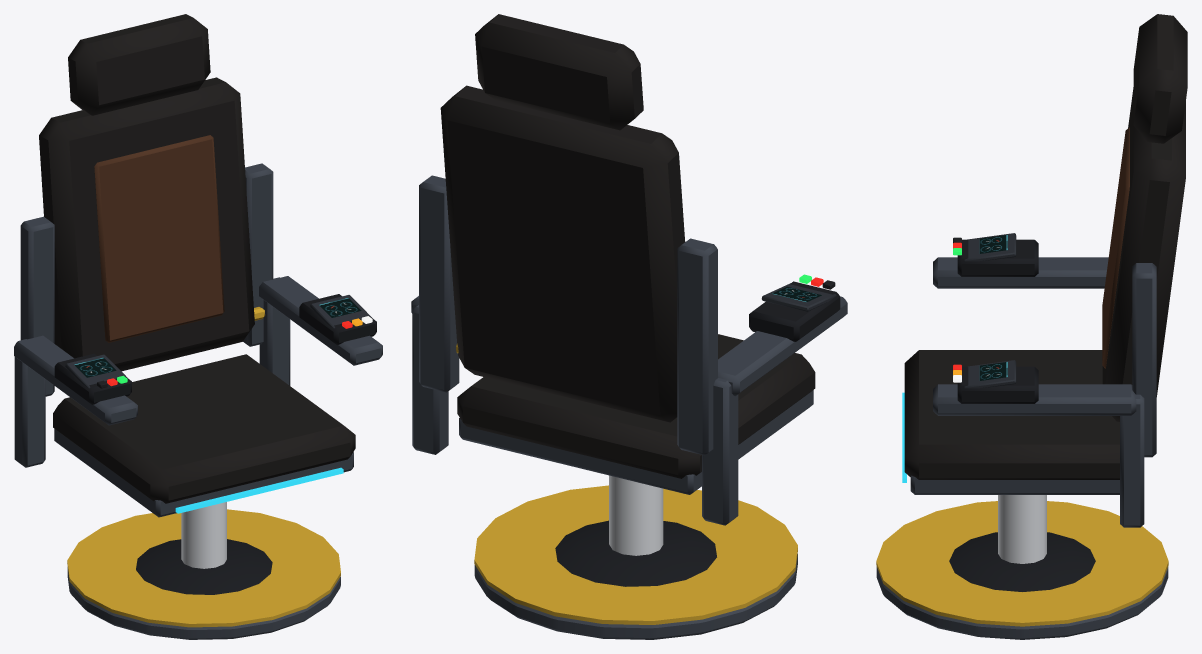
File: seat_captain_command_chair.glb
The picture shows the model from 3 angles, left to right: view 1: azimuth 30°, elevation 25°; view 2: azimuth 150°, elevation 25°; view 3: azimuth 270°, elevation 25°; orthographic projection. The views are drawn at different scales.
Visible parts, largest first — view 1: seat_captain_command_chair; view 2: seat_captain_command_chair; view 3: seat_captain_command_chair.
Boxes of the visible parts, <box> form: seat_captain_command_chair: <box>14,14,382,639</box>; seat_captain_command_chair: <box>411,14,847,639</box>; seat_captain_command_chair: <box>876,14,1187,639</box>.
Bounding box in the file's own units: 0.87 × 1.46 × 0.7668.
14 materials, 1 textured.
